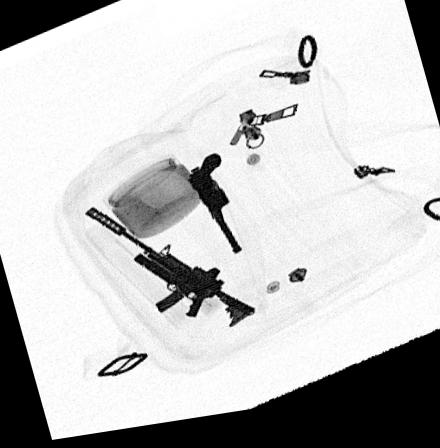Gun: (83, 208, 256, 336), (186, 158, 244, 262)
